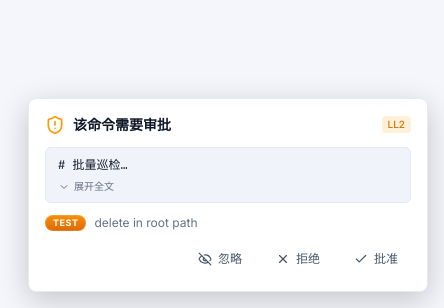
Test: 批四十一 §6 弹窗长命令可滚动/展开全文 › 多行 python 命令默认折叠预览，展开显示完整缩进文本
The width and height of the screenshot is (444, 308).
Expected: the text "for h in hosts" is not shown
Click the button "展开全文": [86, 186] box [58,179,114,194]
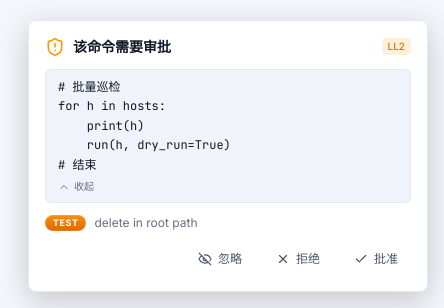
Now the text "print(h)" is shown, box [58,78,231,172]
